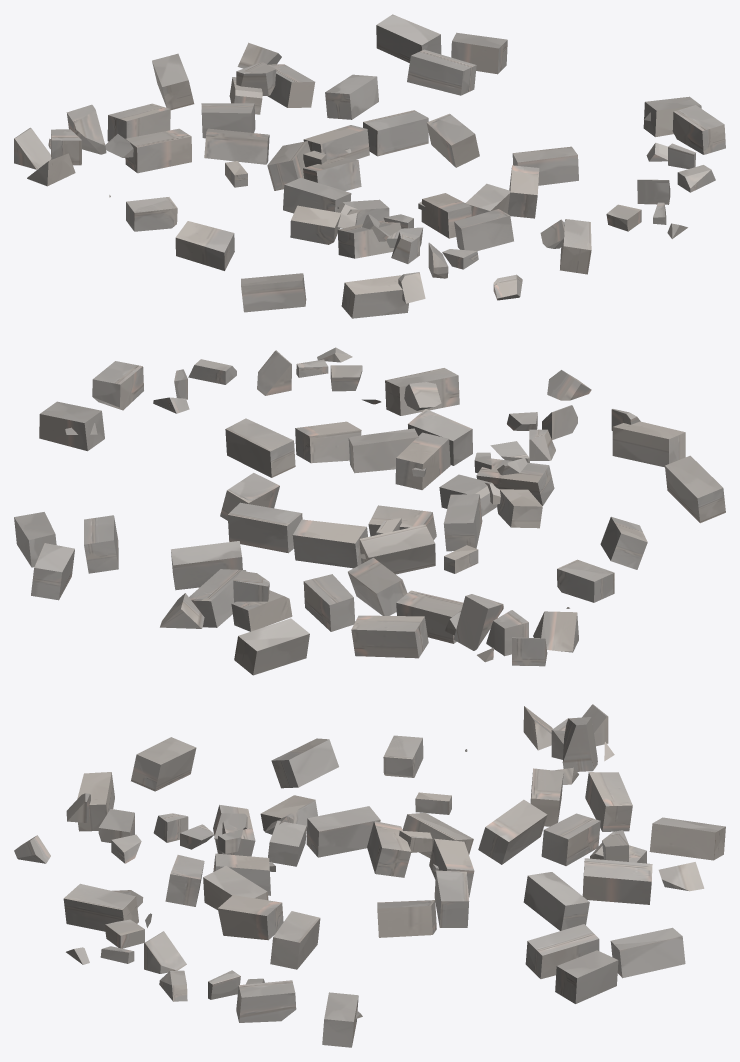
Rendered from RockDebris.fbx.
The picture shows the model from 3 angles, top to bottom: view 1: azimuth 30°, elevation 25°; view 2: azimuth 150°, elevation 25°; view 3: azimuth 270°, elevation 25°; orthographic projection. The views are drawn at different scales.
Visible parts, largest first — view 1: Debris; view 2: Debris; view 3: Debris.
Part boxes in pixels (box(x1,y1,x2,y2)): Debris: box(14, 14, 725, 318); Debris: box(14, 347, 725, 675); Debris: box(14, 704, 725, 1047).
Bounding box in the file's own units: 458 × 47.66 × 452.
